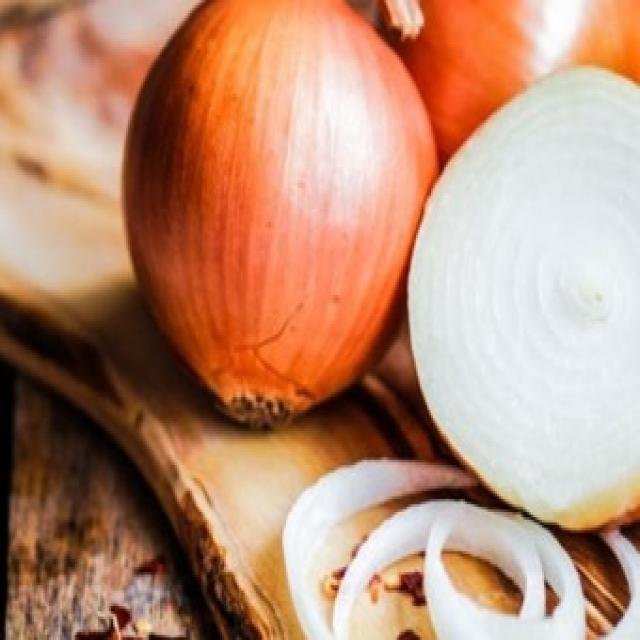onion: (108, 4, 418, 420), (428, 87, 640, 524)
